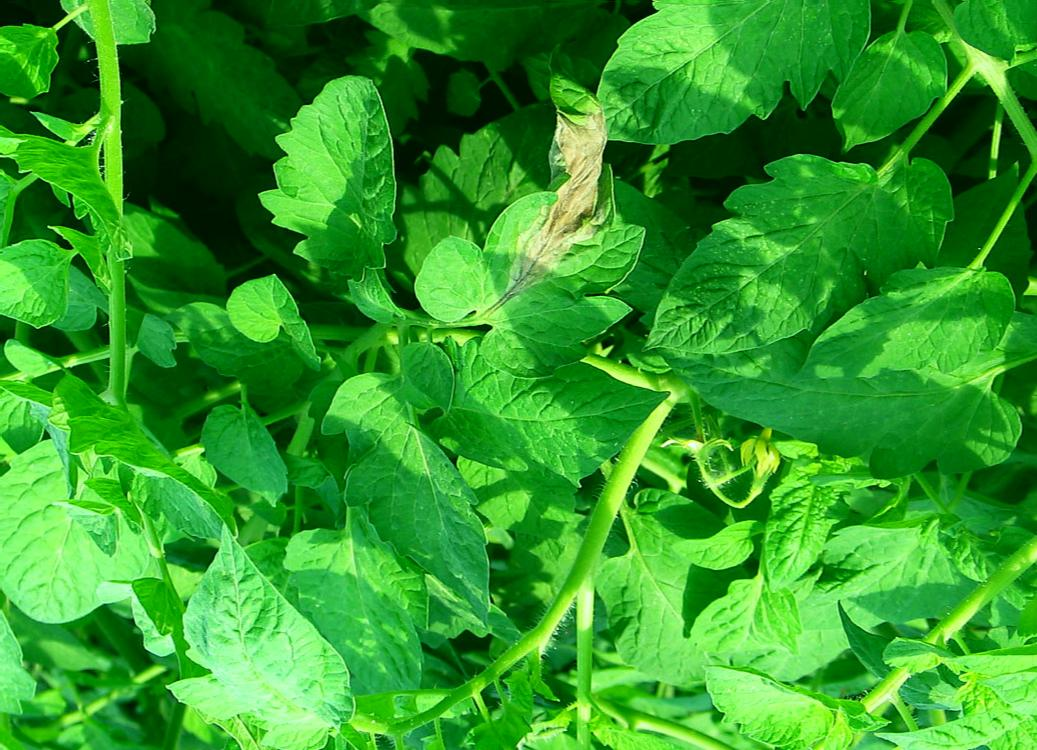Tomato leaf: (645, 118, 950, 366), (319, 339, 513, 641), (589, 0, 878, 132), (254, 64, 403, 309), (278, 473, 423, 724), (816, 242, 1006, 405), (0, 439, 142, 632), (824, 22, 954, 154), (690, 667, 858, 740)
Tomato leaf late blight: (426, 132, 641, 347)
